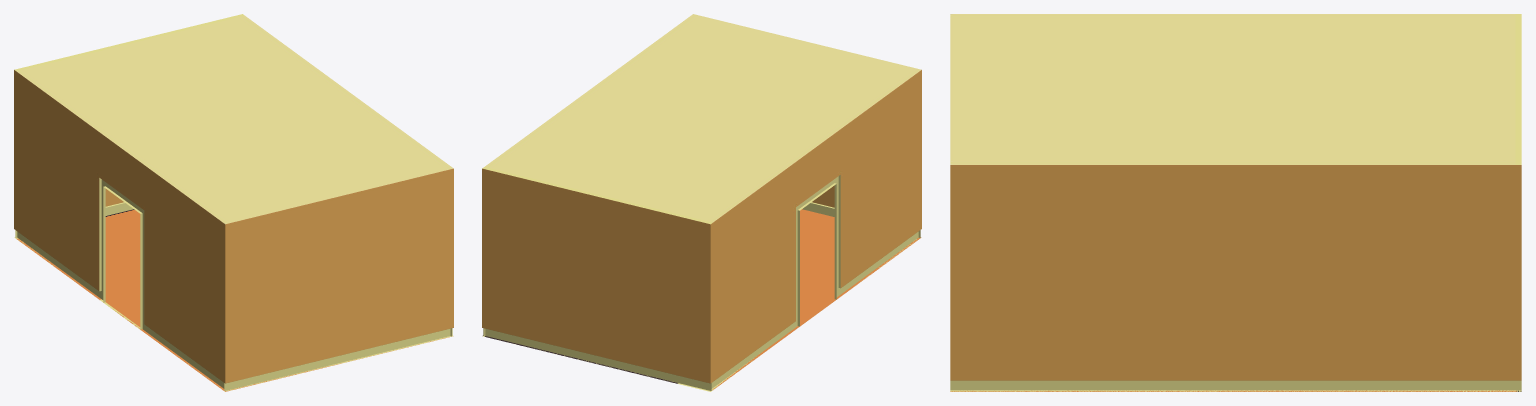
File: room.obj
3 renders of one model, left to right at view 1: azimuth 30°, elevation 25°; view 2: azimuth 150°, elevation 25°; view 3: azimuth 270°, elevation 25°, orthographic. The views are drawn at different scales.
Parts seen in each view (by area): view 1: room_Cube.005; view 2: room_Cube.005; view 3: room_Cube.005.
Boxes of the visible parts, x1,y1,x2,y2 form: room_Cube.005: (14,14,453,391); room_Cube.005: (482,14,921,391); room_Cube.005: (950,14,1521,391).
Bounding box in the file's own units: 11.4 × 7.99 × 18.24.
1 material, 1 textured.
